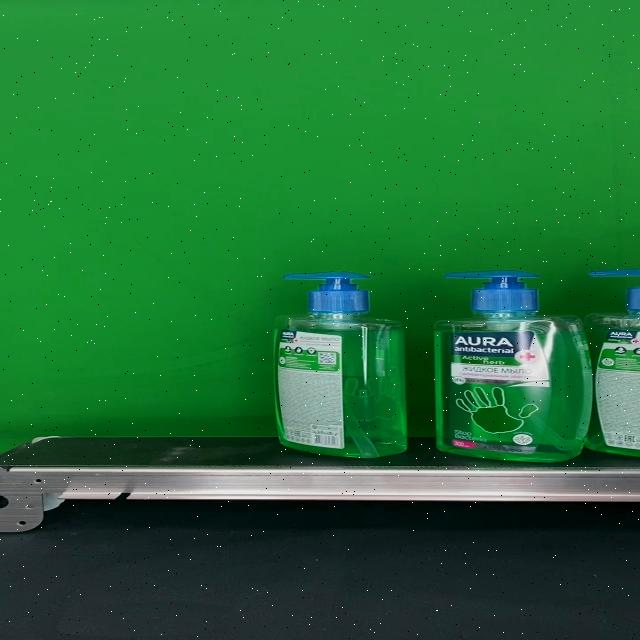Bottle: (433, 271, 593, 462), (272, 271, 408, 459)
Cap: (444, 270, 540, 312), (281, 270, 370, 312)
